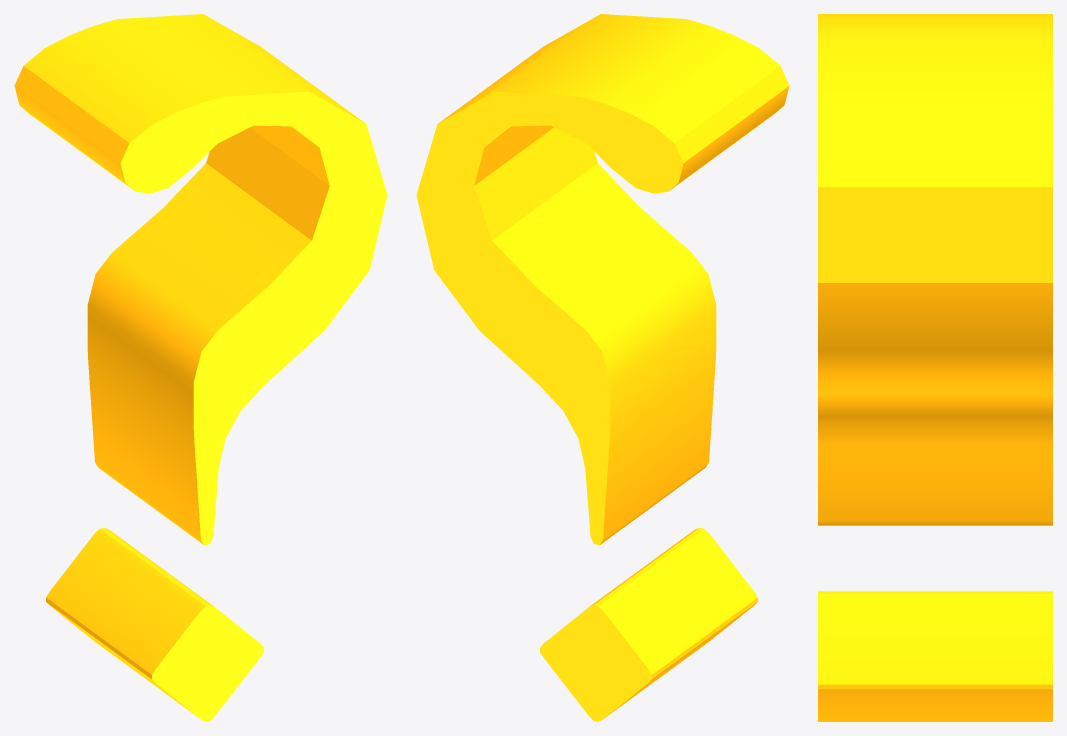
3 renders of one model, left to right at view 1: azimuth 30°, elevation 25°; view 2: azimuth 150°, elevation 25°; view 3: azimuth 270°, elevation 25°, orthographic. The views are drawn at different scales.
Visible parts, largest first — view 1: ?_Soul_Yellow; view 2: ?_Soul_Yellow; view 3: ?_Soul_Yellow.
Boxes of the visible parts, <box> form: ?_Soul_Yellow: <box>14,14,387,721</box>; ?_Soul_Yellow: <box>416,14,789,721</box>; ?_Soul_Yellow: <box>818,14,1052,721</box>.
Size of what is drawn, in the model's own units: 0.0655 by 0.1455 by 0.045.
Materials: 2 (2 with a texture image).
